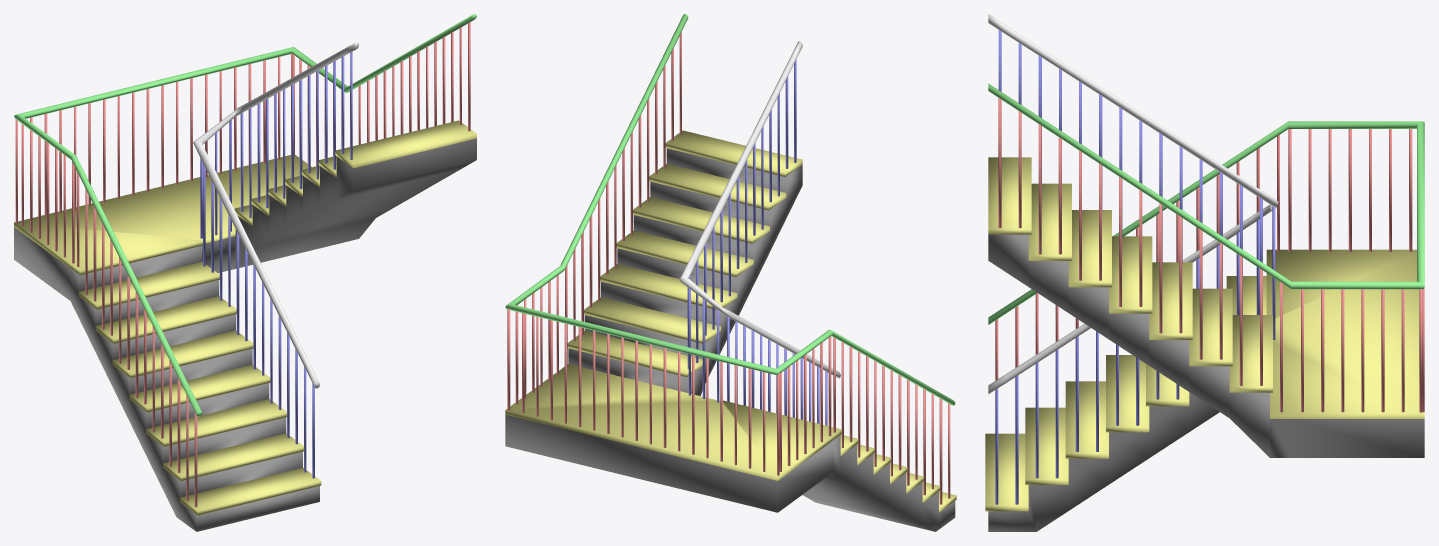
File: stairmesh.gltf
3 views of the same model, side by side, from view 1: azimuth 30°, elevation 25°; view 2: azimuth 150°, elevation 25°; view 3: azimuth 270°, elevation 25° (orthographic). The views are drawn at different scales.
Visible parts, largest first — view 1: stairmesh; view 2: stairmesh; view 3: stairmesh.
Boxes of the visible parts, x1,y1,x2,y2 form: stairmesh: (14,14,476,531); stairmesh: (505,14,956,531); stairmesh: (985,14,1424,531).
Bounding box in the file's own units: 3.75 × 5.77 × 4.26.
